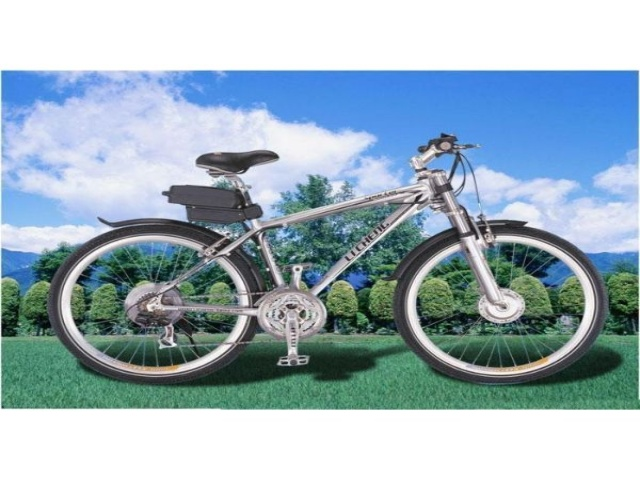bike: (43, 127, 614, 398)
